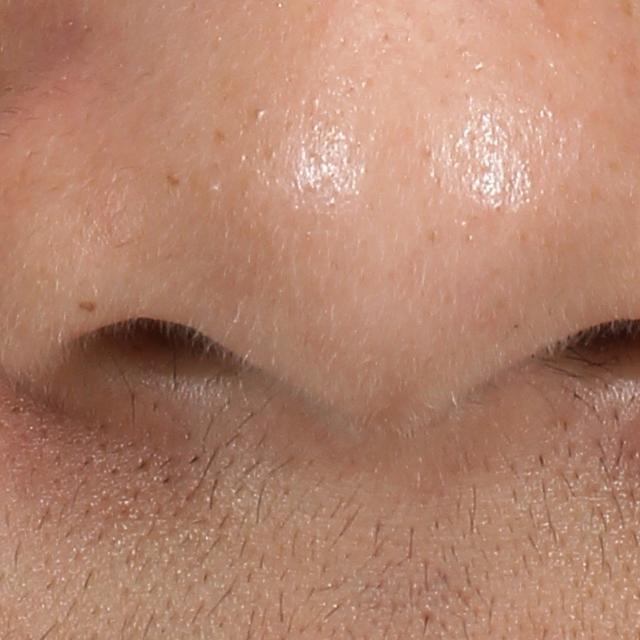nevus: (77, 299, 99, 315)
